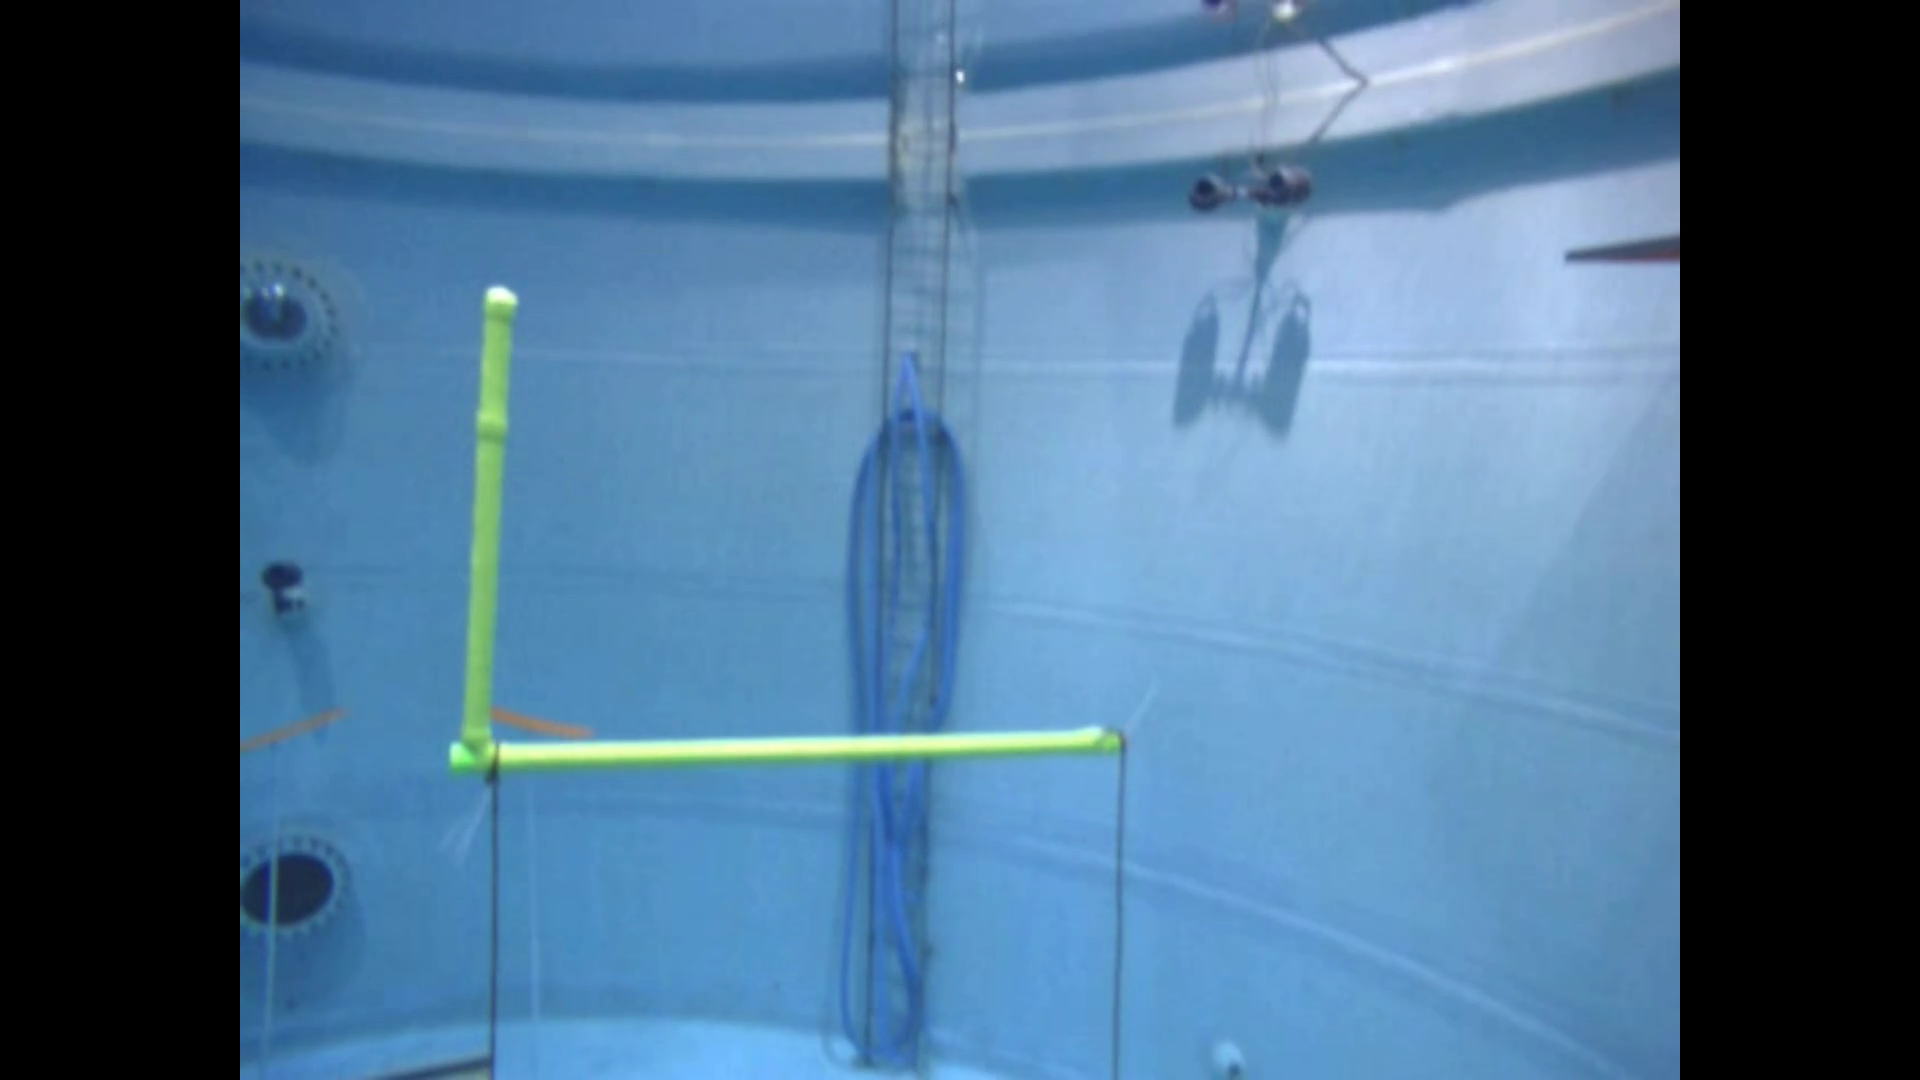gate: (448, 282, 1126, 775)
